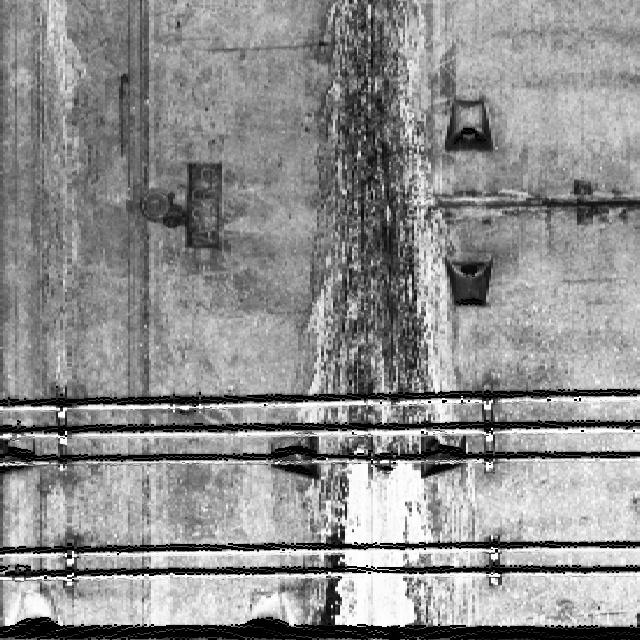leakage: (280, 5, 456, 632)
